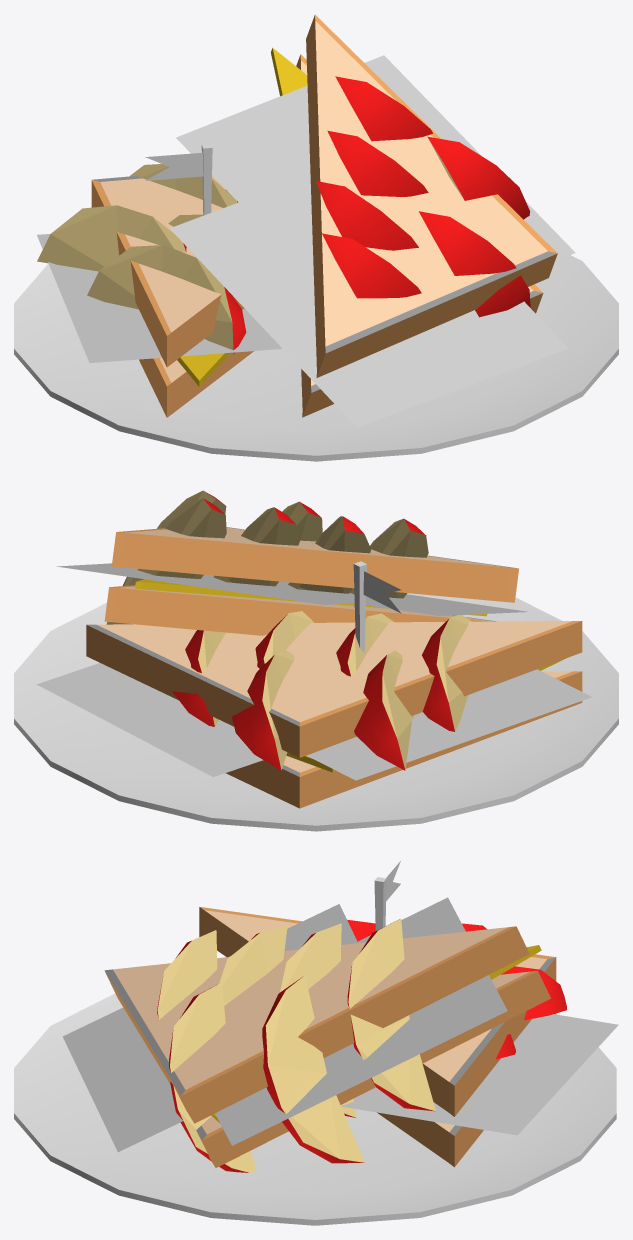
File: sandwitch.FBX
3 renders of one model, top to bottom at view 1: azimuth 30°, elevation 25°; view 2: azimuth 150°, elevation 25°; view 3: azimuth 270°, elevation 25°, orthographic.
Parts seen in each view (by area): view 1: Cylinder001, Box007, Plane009, Plane008, Box004, Plane002, Sphere005, Sphere017, Sphere020, Sphere022, Sphere023, Sphere019 (+9 smaller); view 2: Cylinder001, Box004, Box007, Plane007, Plane002, Box005, Box002, Sphere017, Sphere007, Sphere005, Plane008, Plane009 (+12 smaller); view 3: Cylinder001, Box007, Plane008, Plane007, Plane009, Sphere023, Box004, Sphere018, Box005, Sphere020, Sphere021, Sphere022 (+4 smaller).
Boxes of the visible parts, x1=… form: Cylinder001: x1=14, y1=255, x2=618, y2=461; Box007: x1=306, y1=14, x2=557, y2=377; Plane009: x1=169, y1=175, x2=568, y2=427; Plane008: x1=176, y1=55, x2=575, y2=279; Box004: x1=91, y1=175, x2=243, y2=367; Plane002: x1=37, y1=234, x2=282, y2=362; Sphere005: x1=87, y1=245, x2=246, y2=354; Sphere017: x1=37, y1=205, x2=186, y2=271; Sphere020: x1=419, y1=211, x2=530, y2=317; Sphere022: x1=316, y1=181, x2=418, y2=250; Sphere023: x1=427, y1=136, x2=530, y2=219; Sphere019: x1=327, y1=130, x2=428, y2=196; Cylinder001: x1=14, y1=593, x2=618, y2=831; Box004: x1=86, y1=621, x2=582, y2=757; Box007: x1=111, y1=527, x2=518, y2=602; Plane007: x1=36, y1=663, x2=263, y2=777; Plane002: x1=307, y1=669, x2=591, y2=780; Box005: x1=104, y1=585, x2=496, y2=635; Box002: x1=225, y1=671, x2=582, y2=808; Sphere017: x1=354, y1=650, x2=413, y2=770; Sphere007: x1=232, y1=650, x2=294, y2=770; Sphere005: x1=422, y1=615, x2=471, y2=731; Plane008: x1=56, y1=563, x2=408, y2=604; Plane009: x1=172, y1=575, x2=528, y2=615; Cylinder001: x1=14, y1=993, x2=616, y2=1225; Box007: x1=104, y1=926, x2=529, y2=1123; Plane008: x1=215, y1=897, x2=507, y2=1145; Plane007: x1=341, y1=1014, x2=618, y2=1135; Plane009: x1=62, y1=904, x2=357, y2=1152; Sphere023: x1=262, y1=975, x2=364, y2=1163; Box004: x1=199, y1=907, x2=556, y2=1116; Sphere018: x1=347, y1=918, x2=435, y2=1111; Box005: x1=196, y1=970, x2=550, y2=1167; Sphere020: x1=169, y1=982, x2=256, y2=1172; Sphere021: x1=157, y1=930, x2=217, y2=1019; Sphere022: x1=219, y1=925, x2=287, y2=1005.
Bounding box in the file's own units: 107 × 46.32 × 106.
